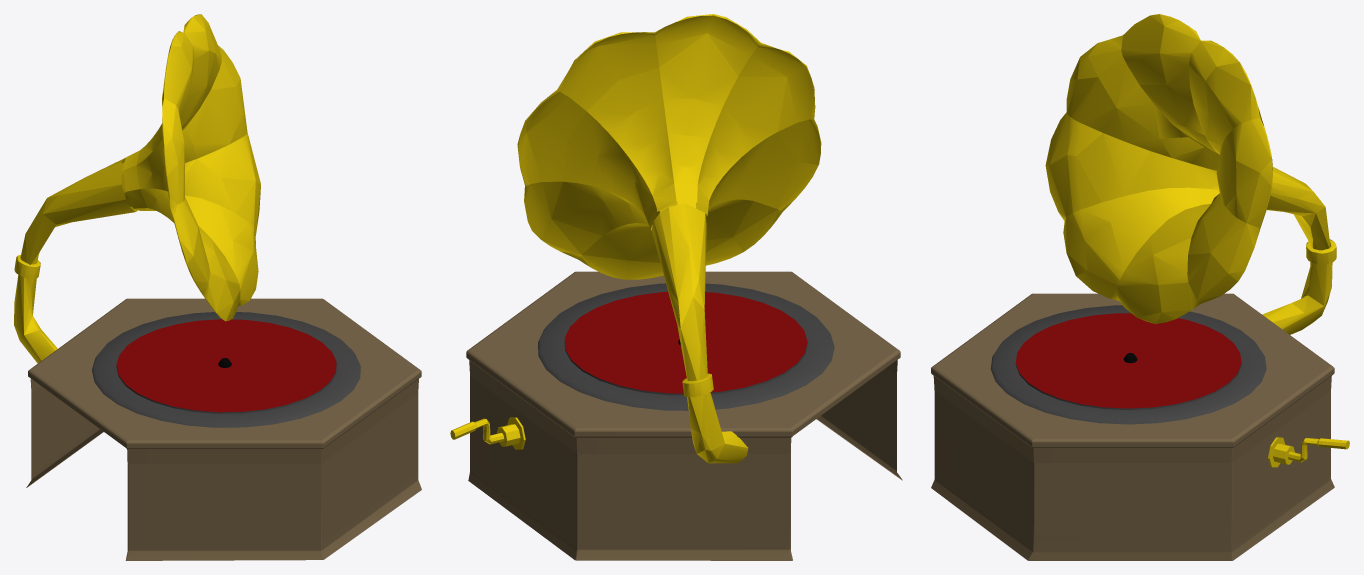
Rendered from Antique.fbx.
3 views of the same model, side by side, from view 1: azimuth 30°, elevation 25°; view 2: azimuth 150°, elevation 25°; view 3: azimuth 270°, elevation 25° (orthographic). The views are drawn at different scales.
Parts seen in each view (by area): view 1: pCylinder1, polySurface10, pCylinder2; view 2: polySurface10, pCylinder1, pCylinder2, pCylinder3; view 3: pCylinder1, polySurface10, pCylinder2, pCylinder3.
Part boxes in pixels (bbox=[...]): pCylinder1: bbox=[26, 298, 421, 560]; polySurface10: bbox=[14, 14, 260, 363]; pCylinder2: bbox=[92, 312, 360, 427]; polySurface10: bbox=[517, 14, 821, 463]; pCylinder1: bbox=[466, 271, 902, 560]; pCylinder2: bbox=[538, 283, 834, 410]; pCylinder3: bbox=[450, 417, 525, 449]; pCylinder1: bbox=[931, 293, 1334, 560]; polySurface10: bbox=[1045, 14, 1336, 334]; pCylinder2: bbox=[990, 305, 1266, 424]; pCylinder3: bbox=[1268, 437, 1349, 467].
Size of the model in its own units: 6.4 by 9.14 by 7.64.
